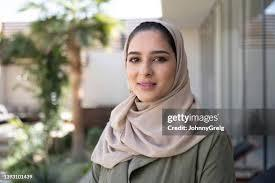scarf-kerchief: (82, 10, 204, 171)
